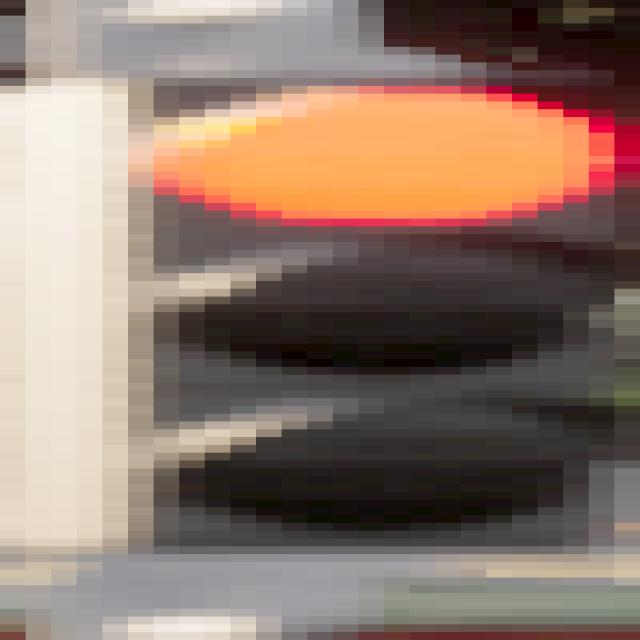red_light: (120, 76, 640, 558)
